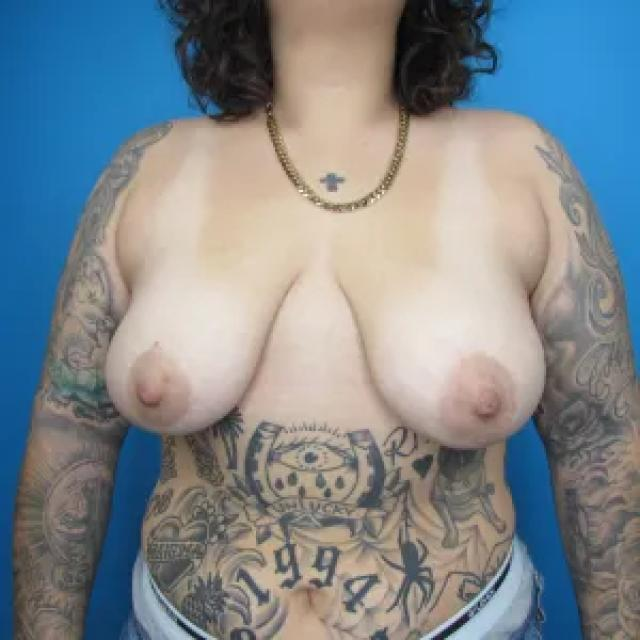Seno ileso: (326, 232, 554, 467), (99, 232, 309, 453)
